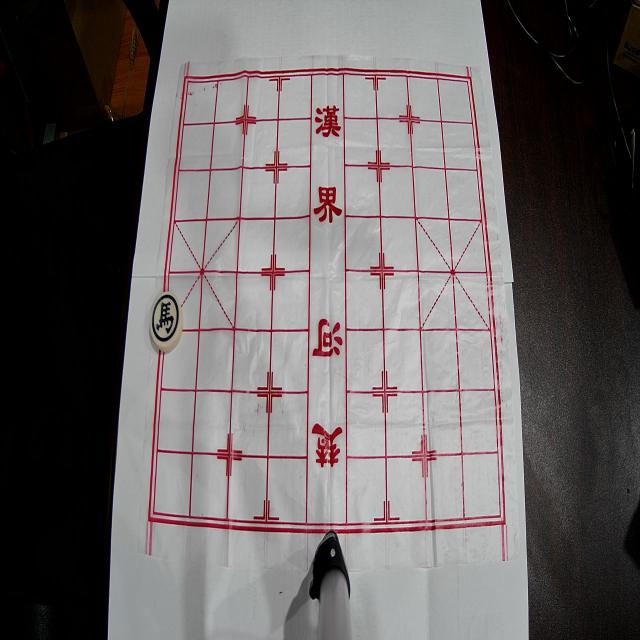black-horse: (150, 292, 184, 352)
